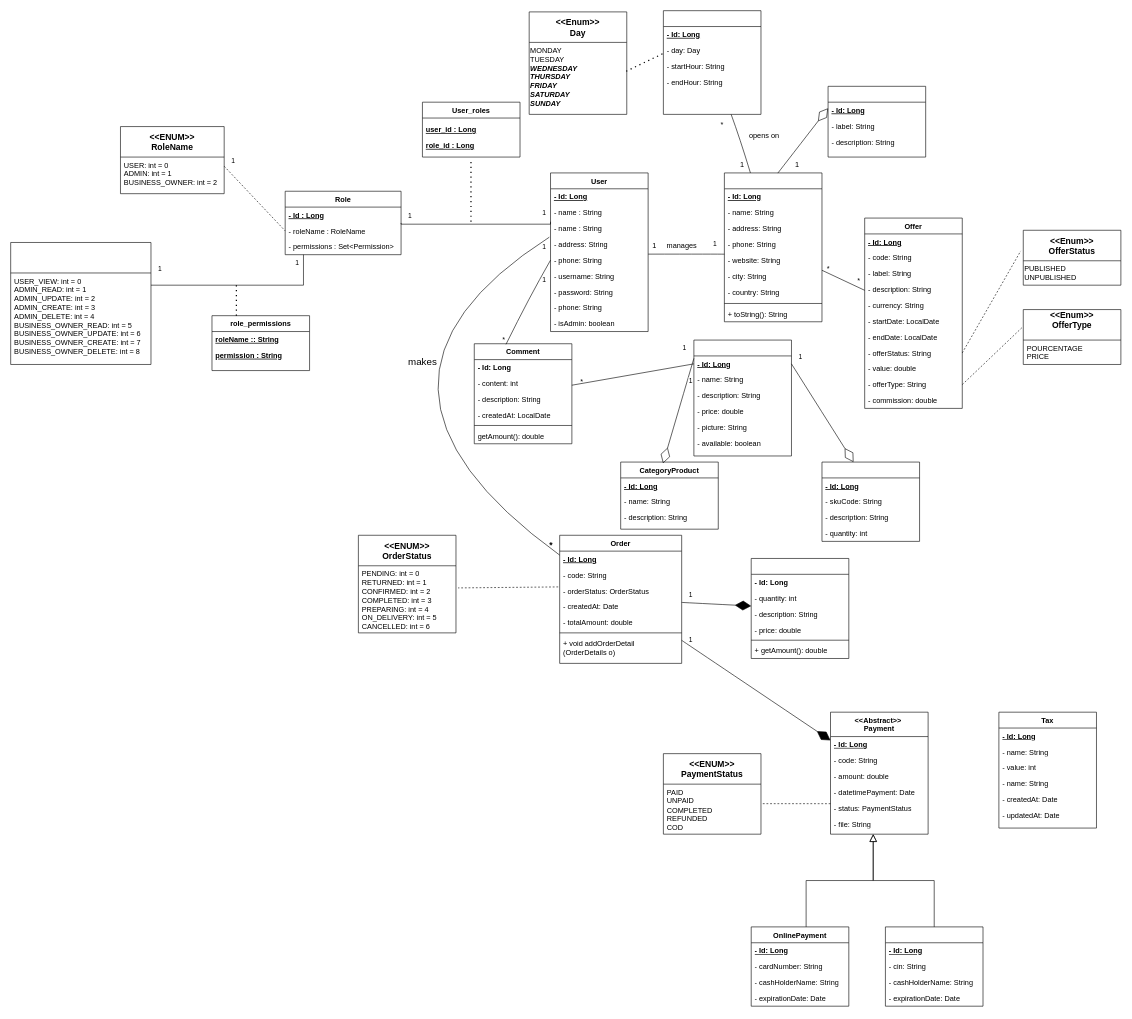
Image size: 1132x1019. Some labels were removed from this diagram. Each missing label, with the box of its shape:
<<ENUM>> PERMISSION: (10, 242, 151, 364)
Company: (724, 172, 822, 322)
CompanyCategory: (827, 86, 926, 157)
Inventory: (821, 461, 920, 541)
OnDeliveryPayment: (885, 926, 983, 1006)
OpeningHours: (663, 10, 761, 114)
OrderDetails: (751, 558, 849, 658)
Product: (693, 339, 791, 456)
